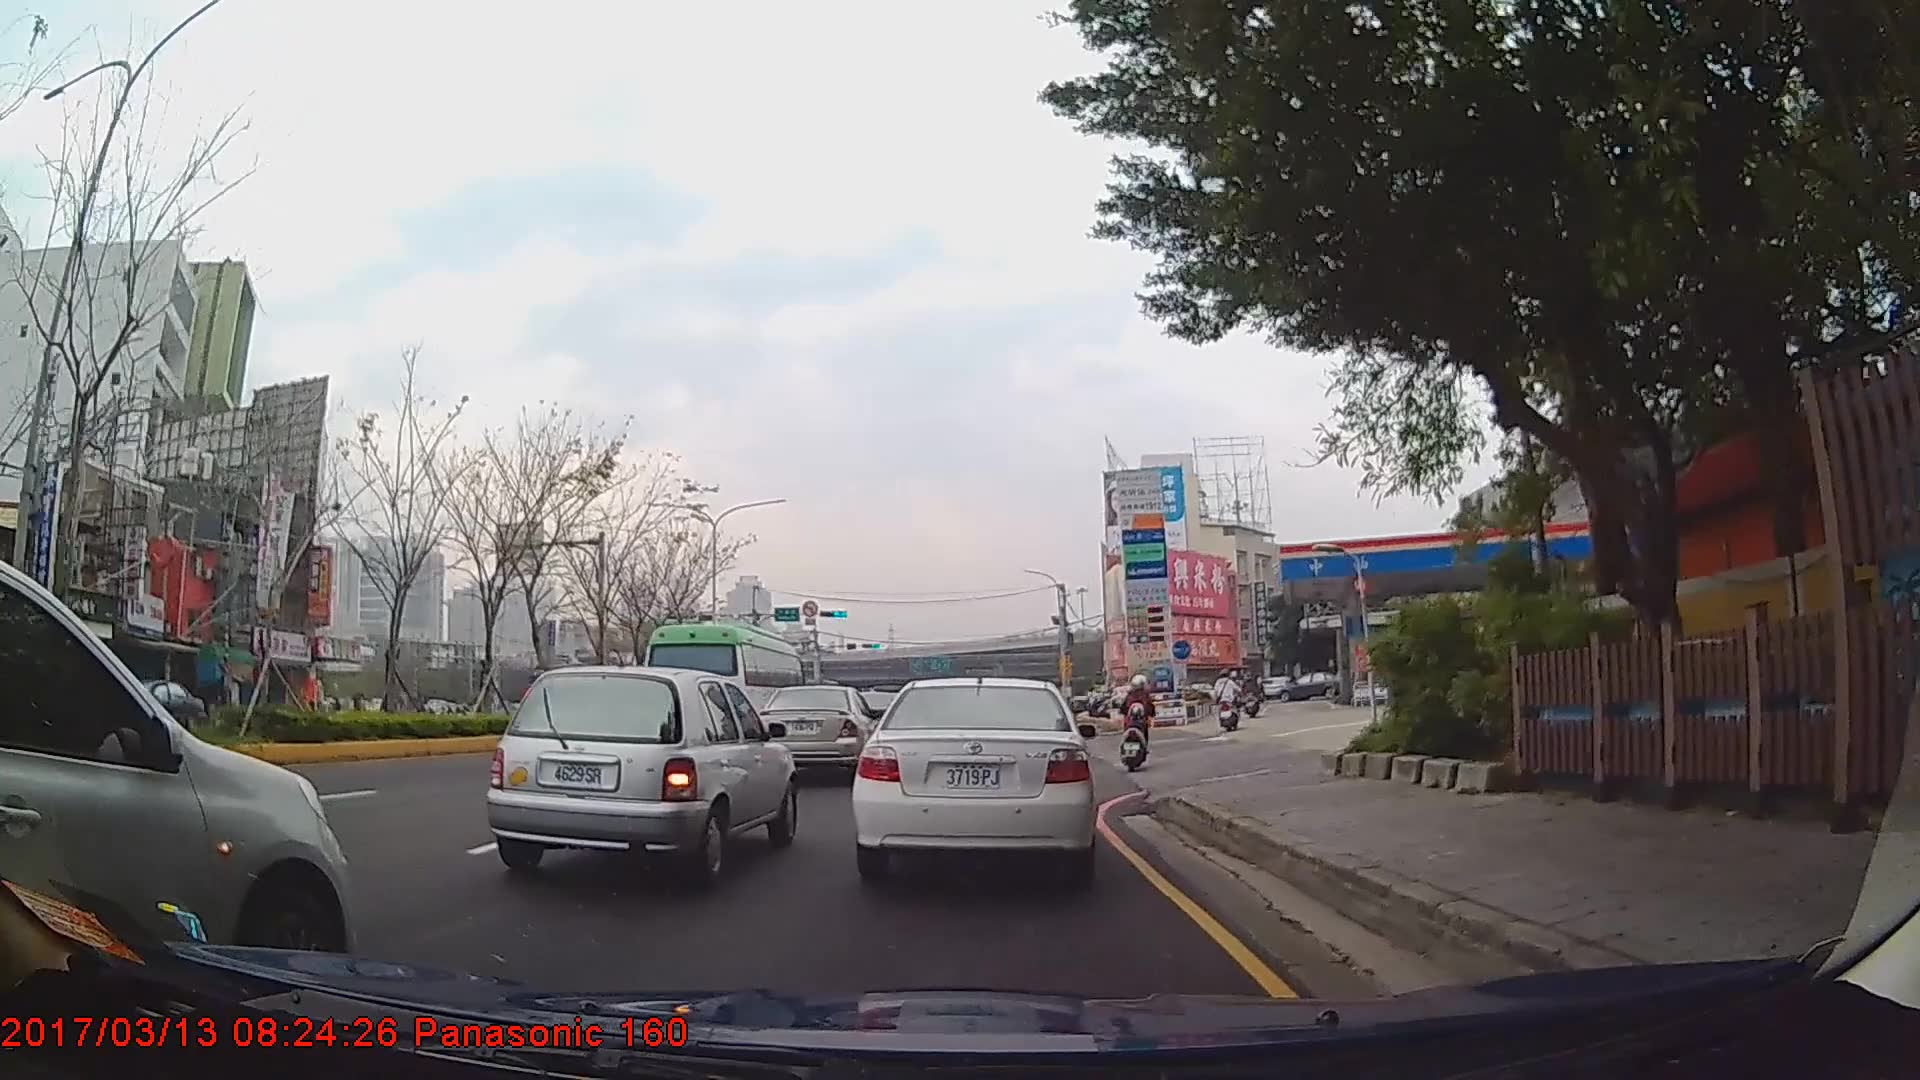rider: (1122, 673, 1155, 765), (1213, 665, 1242, 729)
vehicle: (0, 558, 350, 994), (487, 661, 800, 884), (858, 674, 1094, 881), (639, 619, 806, 756), (752, 683, 881, 777), (107, 674, 209, 734), (1274, 670, 1344, 700)
